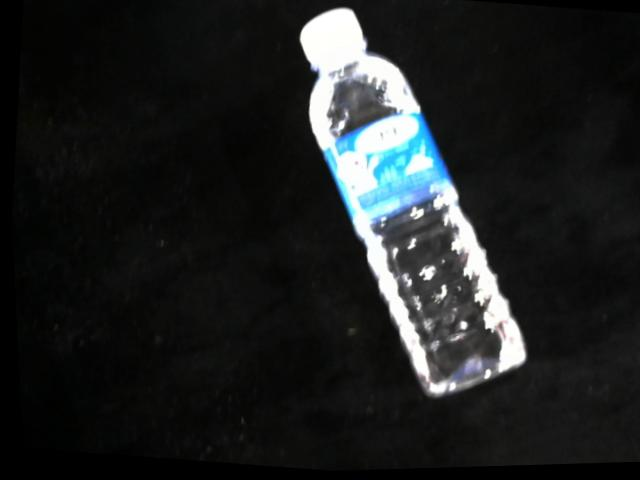bottle: (297, 9, 527, 406)
